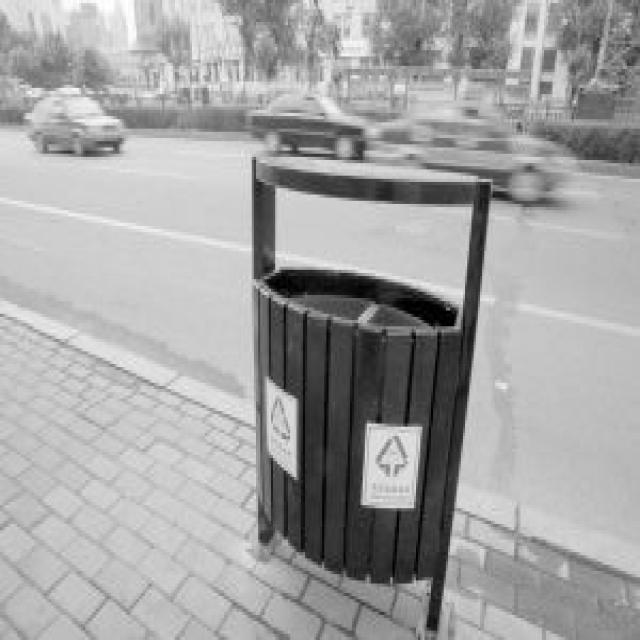garbage_bin: (250, 150, 490, 628)
